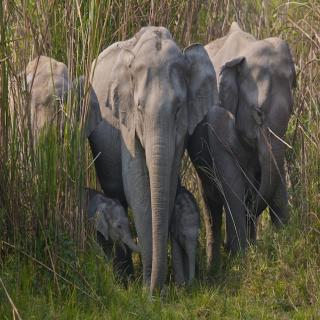Elephant: (86, 25, 217, 316), (190, 20, 304, 284), (76, 184, 144, 284), (167, 180, 204, 291)
